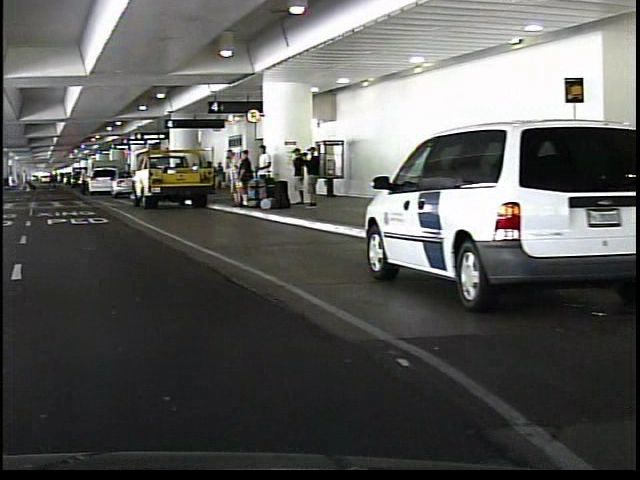person: (219, 143, 238, 205), (301, 143, 318, 208), (11, 161, 32, 195), (74, 165, 87, 197)
